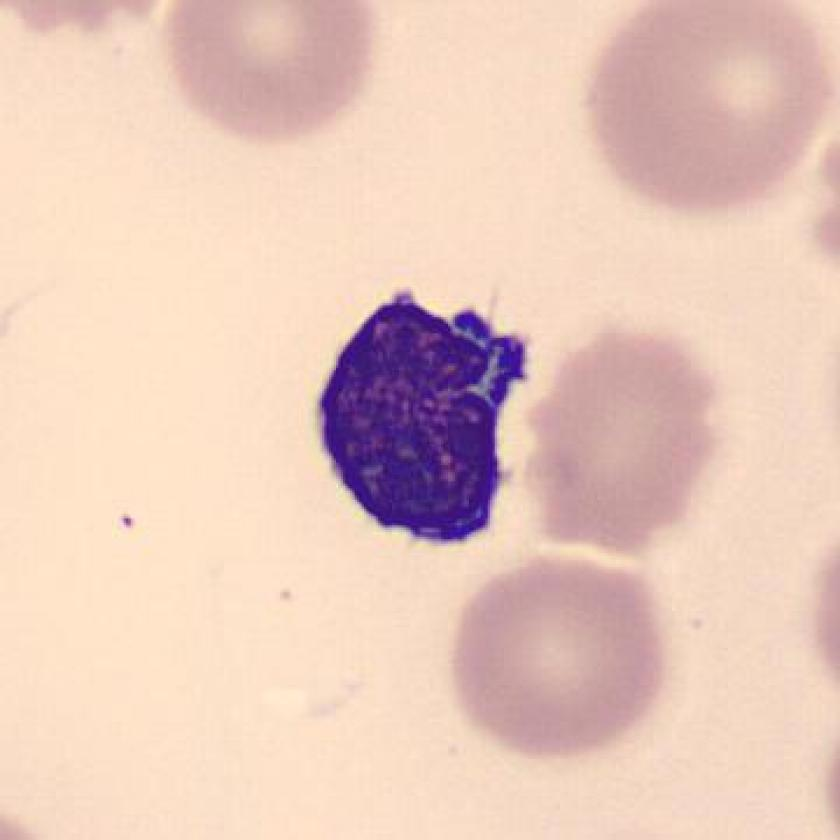lymphocyte: (304, 267, 547, 580)
